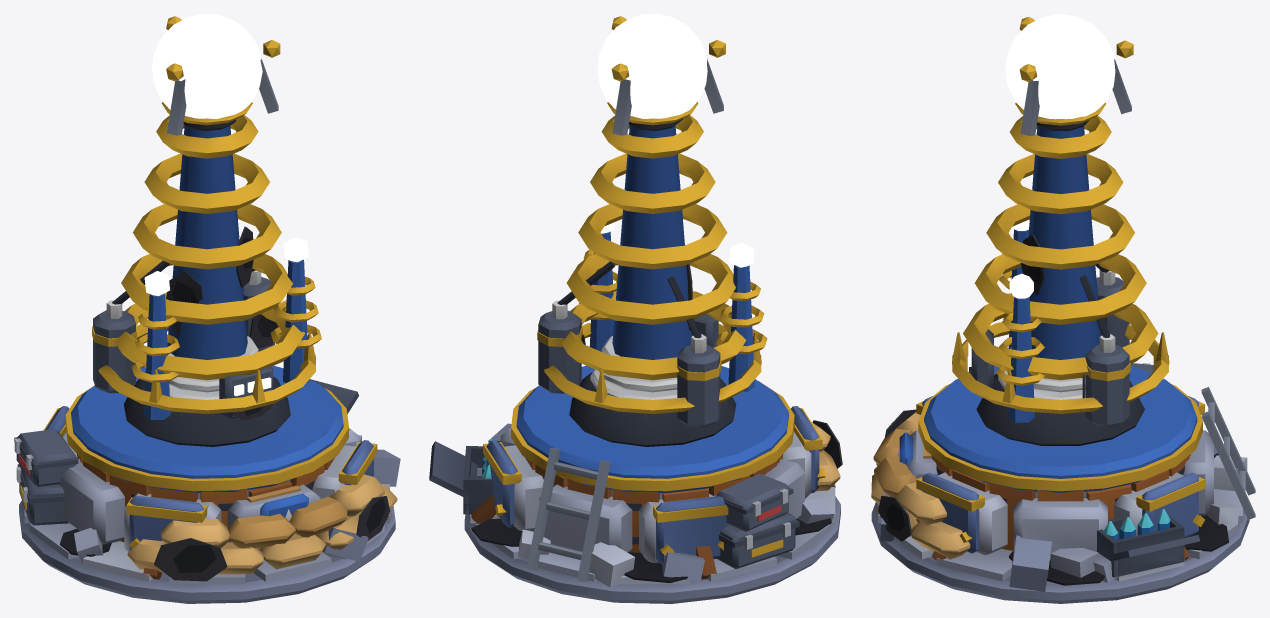
File: t_tesla.glb
The picture shows the model from 3 angles, left to right: view 1: azimuth 30°, elevation 25°; view 2: azimuth 150°, elevation 25°; view 3: azimuth 270°, elevation 25°; orthographic projection.
Visible parts, largest first — view 1: head, base, lv4_stone, pulse_orb_glow, lv7_armor, lv4_coils, lv7_trim, dmg2_base, lvmax3_wood, dmg1_base, dmg2_head, lv4_orbs_glow (+1 smaller); view 2: head, lv4_stone, base, lv7_armor, pulse_orb_glow, lv4_coils, dmg2_base, lv7_ladder, lv7_trim, lvmax3_wood, dmg1_base, lv4_orbs_glow; view 3: head, lv4_stone, base, lv7_armor, pulse_orb_glow, lv7_trim, dmg2_base, dmg1_base, lv4_coils, lvmax3_wood, lv7_ladder, lv4_orbs_glow (+1 smaller).
Boxes of the visible parts, left/top/right/bottom form: head: left=92, top=16, right=304, bottom=446; base: left=14, top=379, right=397, bottom=603; lv4_stone: left=58, top=365, right=359, bottom=551; pulse_orb_glow: left=152, top=14, right=262, bottom=118; lv7_armor: left=43, top=385, right=377, bottom=550; lv4_coils: left=131, top=259, right=321, bottom=419; lv7_trim: left=98, top=102, right=315, bottom=413; dmg2_base: left=154, top=449, right=400, bottom=581; lvmax3_wood: left=77, top=454, right=389, bottom=579; dmg1_base: left=60, top=435, right=389, bottom=562; dmg2_head: left=166, top=270, right=278, bottom=347; lv4_orbs_glow: left=144, top=237, right=308, bottom=296; head: left=537, top=16, right=746, bottom=446; lv4_stone: left=500, top=365, right=811, bottom=562; base: left=429, top=422, right=840, bottom=603; lv7_armor: left=483, top=381, right=825, bottom=564; pulse_orb_glow: left=597, top=14, right=707, bottom=118; lv4_coils: left=579, top=231, right=767, bottom=391; dmg2_base: left=477, top=420, right=842, bottom=587; lv7_ladder: left=527, top=448, right=610, bottom=581; lv7_trim: left=544, top=102, right=761, bottom=413; lvmax3_wood: left=471, top=454, right=835, bottom=579; dmg1_base: left=471, top=499, right=834, bottom=558; lv4_orbs_glow: left=591, top=212, right=754, bottom=267; head: left=963, top=17, right=1158, bottom=445; lv4_stone: left=897, top=365, right=1213, bottom=560; base: left=871, top=363, right=1249, bottom=603; lv7_armor: left=916, top=384, right=1205, bottom=553; pulse_orb_glow: left=1005, top=14, right=1115, bottom=119; lv7_trim: left=952, top=102, right=1169, bottom=413; dmg2_base: left=880, top=409, right=1247, bottom=591; dmg1_base: left=878, top=495, right=1239, bottom=577; lv4_coils: left=995, top=229, right=1044, bottom=422; lvmax3_wood: left=923, top=445, right=1190, bottom=560; lv7_ladder: left=1201, top=387, right=1255, bottom=519; lv4_orbs_glow: left=1009, top=219, right=1033, bottom=298.
Bounding box in the file's own units: 3.63 × 5.04 × 3.45.
